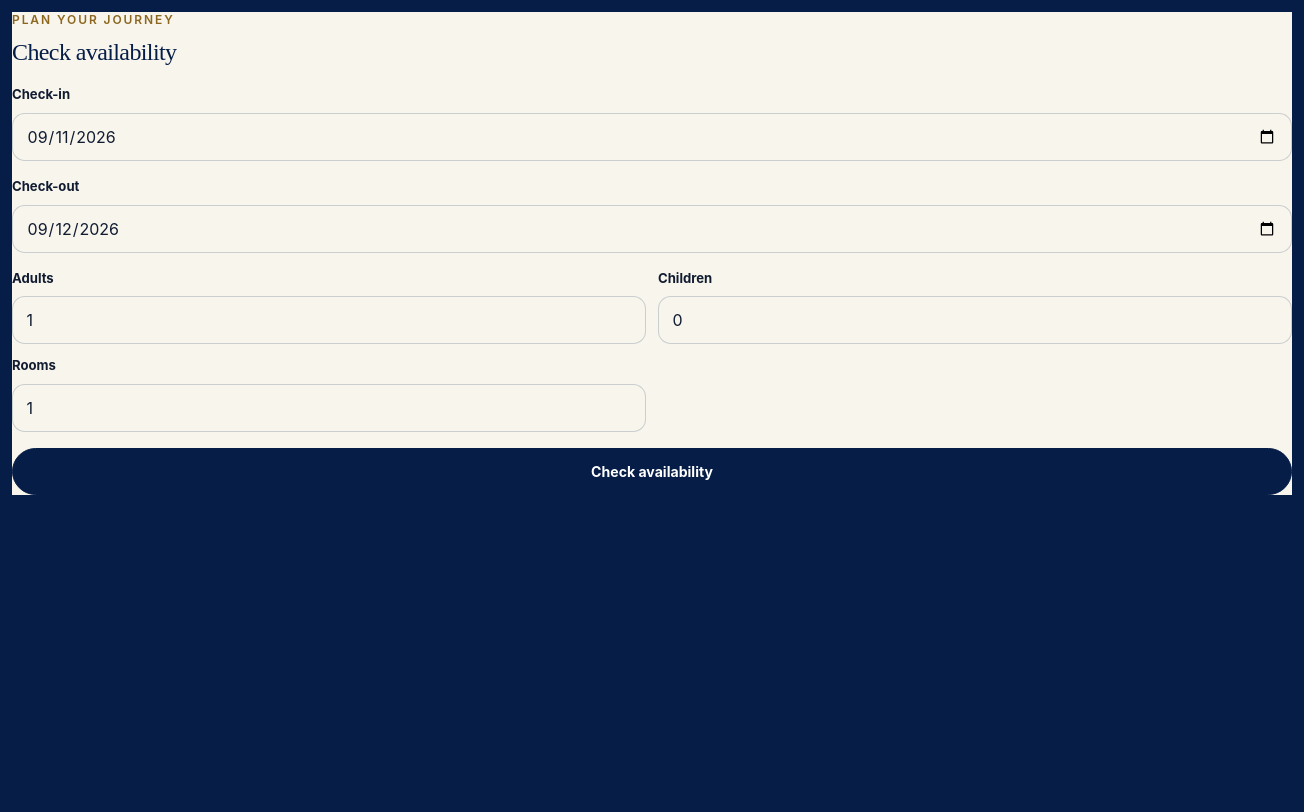
Test case: ProductAvailabilityPanel › shows a calm empty state when no room is available for every night
Click the button "Check availability" at (652, 471), box x1=12 y1=448 x2=1292 y2=495
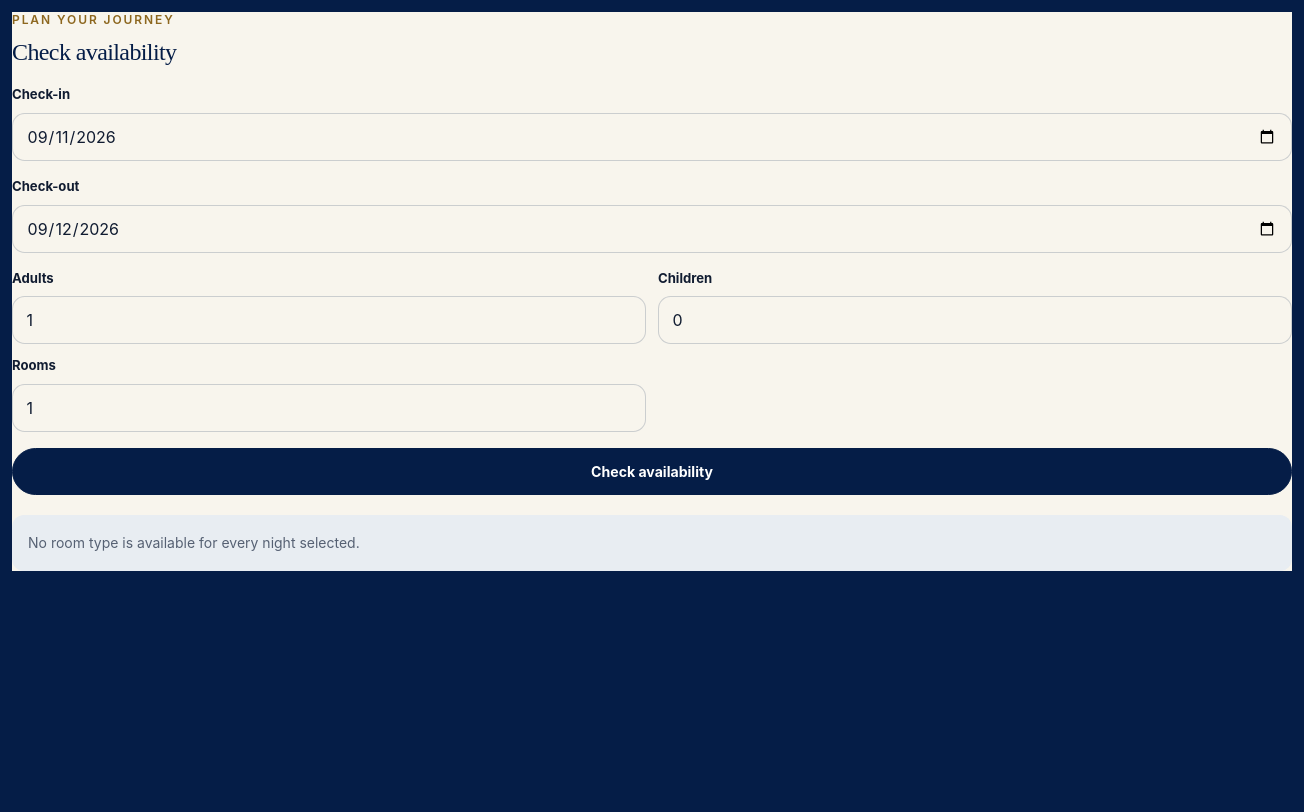
Now the text "No room type is available for every night selected." is shown, box x1=12 y1=515 x2=1292 y2=571
